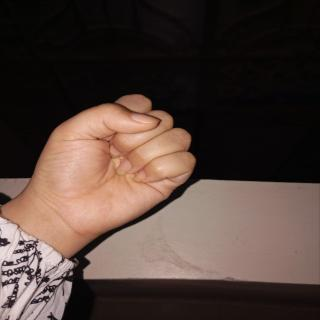SAD: (27, 84, 210, 240)
